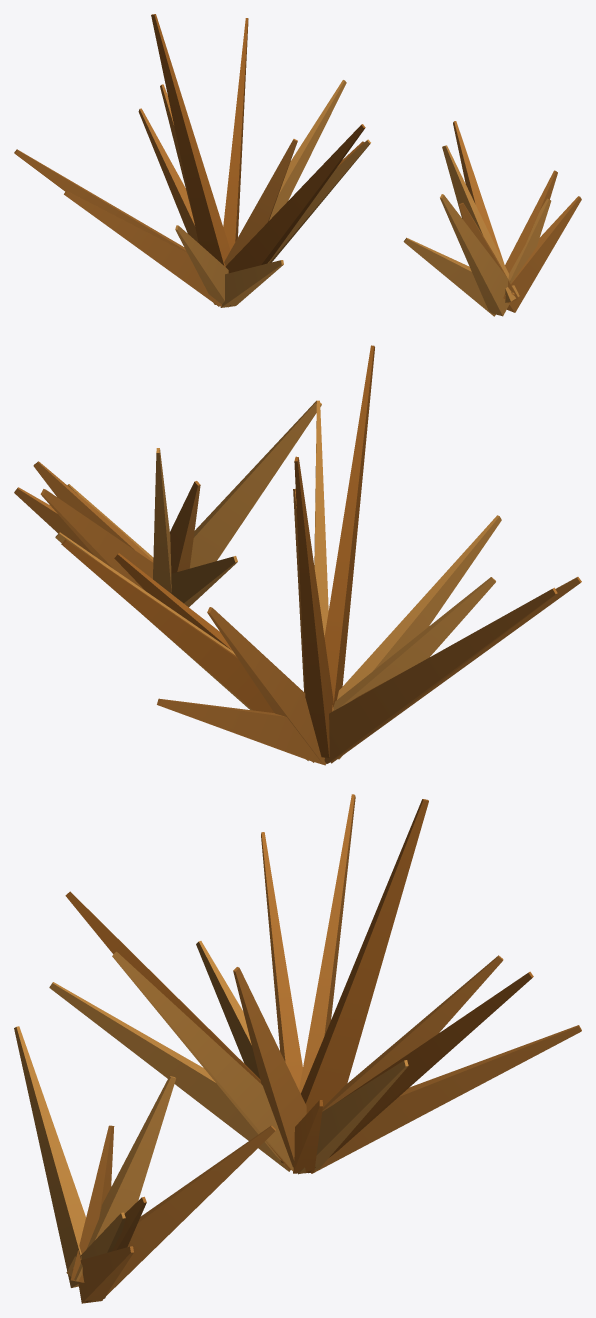
The model's file is grass_tuft.glb.
The picture shows the model from 3 angles, top to bottom: view 1: azimuth 30°, elevation 25°; view 2: azimuth 150°, elevation 25°; view 3: azimuth 270°, elevation 25°; orthographic projection. The views are drawn at different scales.
Visible parts, largest first — view 1: grass_tuft; view 2: grass_tuft; view 3: grass_tuft.
Part boxes in pixels (x1,y1,x2,y2): grass_tuft: (14, 14, 581, 316); grass_tuft: (14, 345, 581, 765); grass_tuft: (14, 794, 581, 1303).
Size of the model in its own units: 1.23 by 0.6367 by 0.9288.
